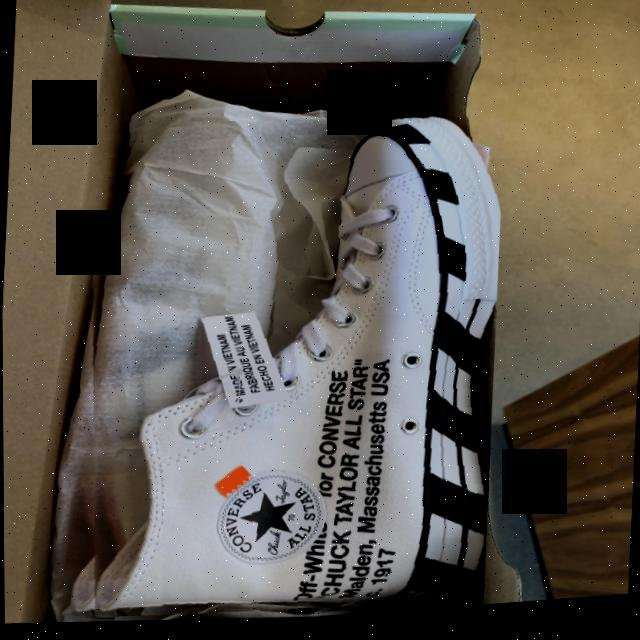shoe: (66, 101, 508, 636)
